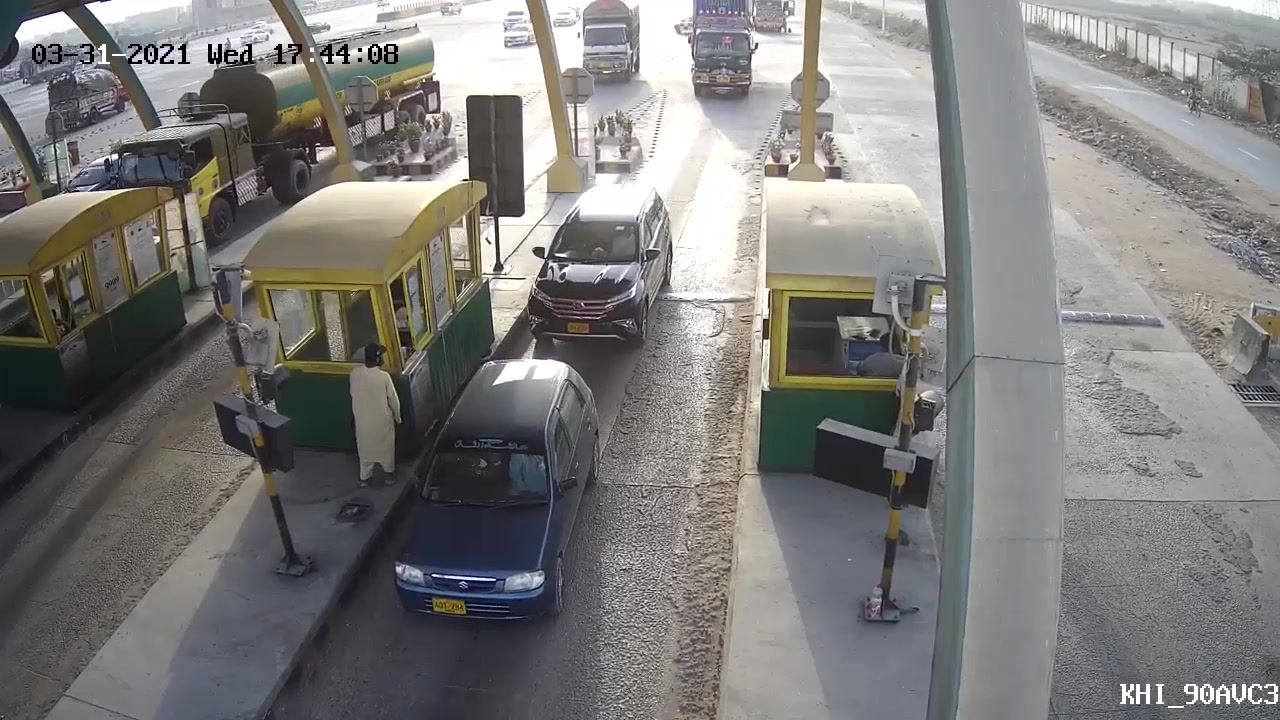F1: (391, 352, 611, 649), (519, 174, 686, 358)
